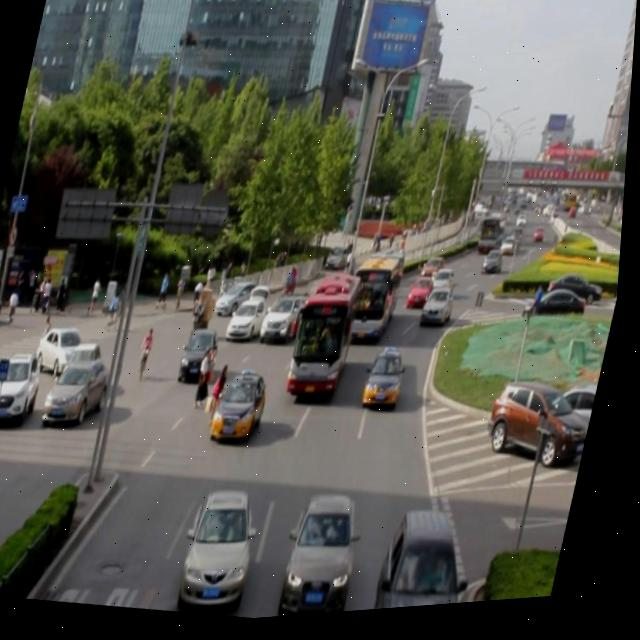car: (377, 510, 491, 616), (285, 495, 373, 621), (185, 489, 268, 616), (214, 374, 274, 452), (263, 290, 312, 353), (365, 354, 412, 418), (182, 326, 229, 386), (230, 295, 275, 347), (423, 292, 460, 337), (409, 280, 440, 321), (430, 273, 461, 309)
van: (291, 274, 365, 403), (348, 258, 408, 347)
